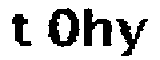0: (49, 5, 79, 49)
h: (81, 5, 113, 48)
t: (9, 11, 37, 51)
y: (115, 13, 152, 60)
